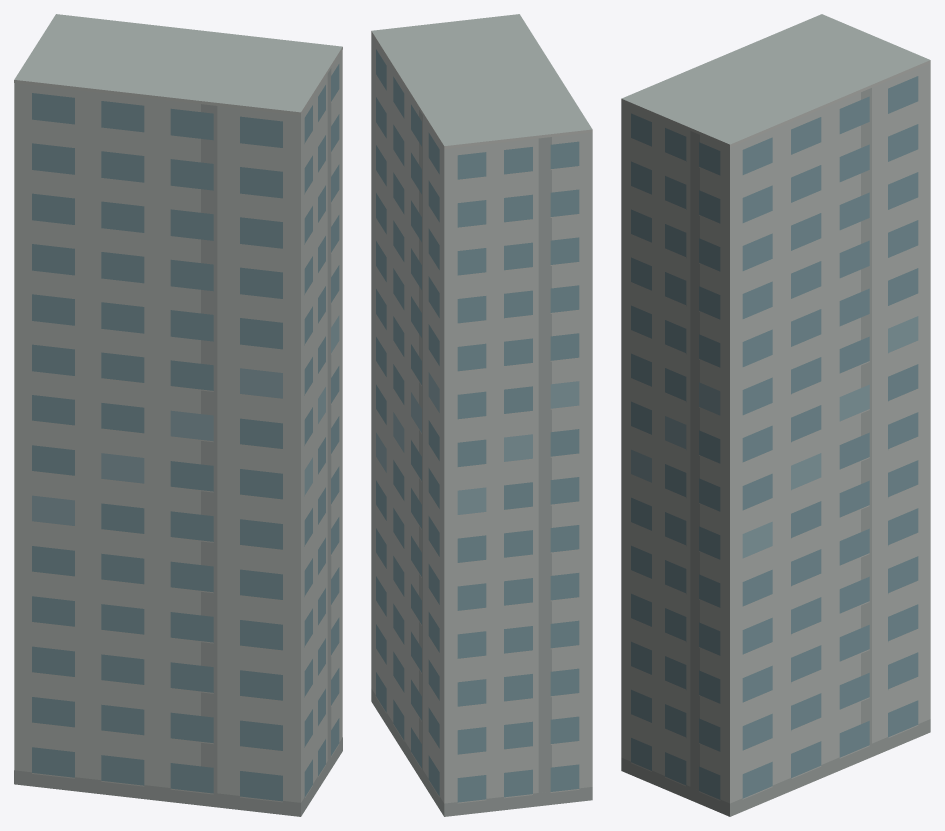
File: residential-123be278-4a9c-4aff-a54f-5b448e437276.glb
The picture shows the model from 3 angles, left to right: view 1: azimuth 30°, elevation 25°; view 2: azimuth 150°, elevation 25°; view 3: azimuth 270°, elevation 25°; orthographic projection. The views are drawn at different scales.
Parts seen in each view (by area): view 1: residential-123be278-4a9c-4aff-a54f-5b448e437276.tmp; view 2: residential-123be278-4a9c-4aff-a54f-5b448e437276.tmp; view 3: residential-123be278-4a9c-4aff-a54f-5b448e437276.tmp.
Boxes of the visible parts, x1=… form: residential-123be278-4a9c-4aff-a54f-5b448e437276.tmp: x1=14, y1=14, x2=342, y2=816; residential-123be278-4a9c-4aff-a54f-5b448e437276.tmp: x1=371, y1=14, x2=592, y2=816; residential-123be278-4a9c-4aff-a54f-5b448e437276.tmp: x1=621, y1=14, x2=930, y2=816.
Size of the model in its own units: 23.34 by 56 by 23.35.
